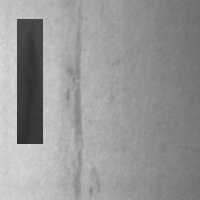inclusion: (63, 1, 88, 165), (17, 19, 43, 144), (68, 142, 101, 198)
